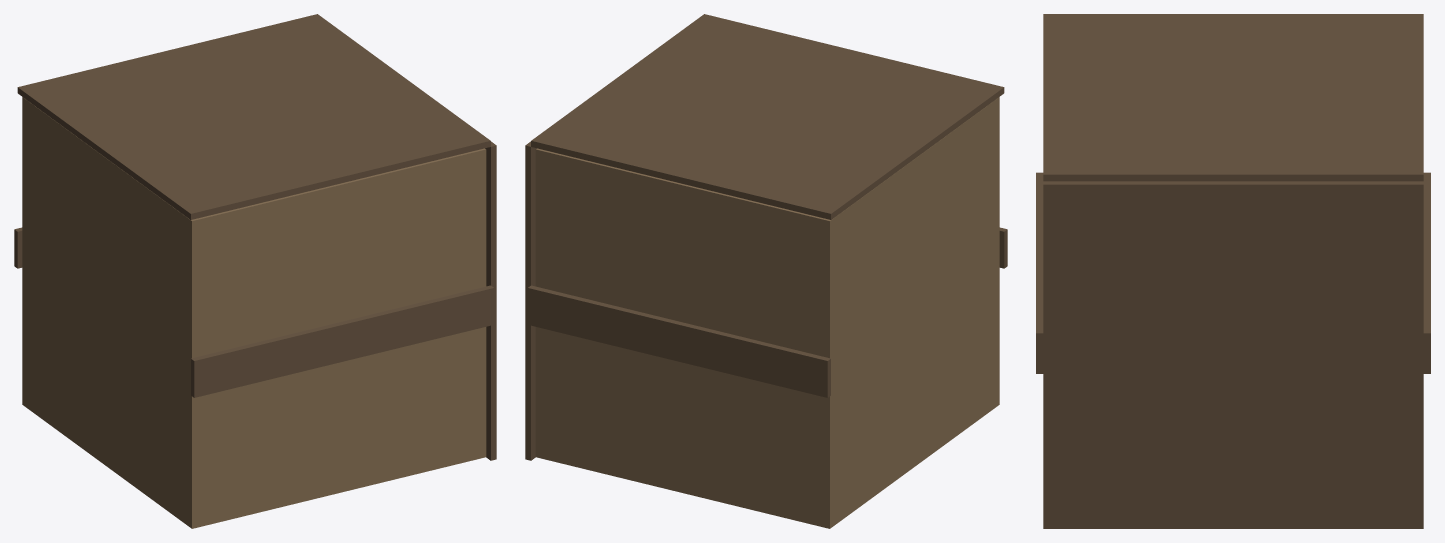
File: p_crate.glb
3 views of the same model, side by side, from view 1: azimuth 30°, elevation 25°; view 2: azimuth 150°, elevation 25°; view 3: azimuth 270°, elevation 25° (orthographic). The views are drawn at different scales.
Parts seen in each view (by area): view 1: body; view 2: body; view 3: body.
Part boxes in pixels (left/top/right/bottom): body: left=14, top=14, right=496, bottom=528; body: left=525, top=14, right=1007, bottom=528; body: left=1036, top=14, right=1430, bottom=528.
Size of the model in its own units: 1.04 by 1.04 by 1.06.
